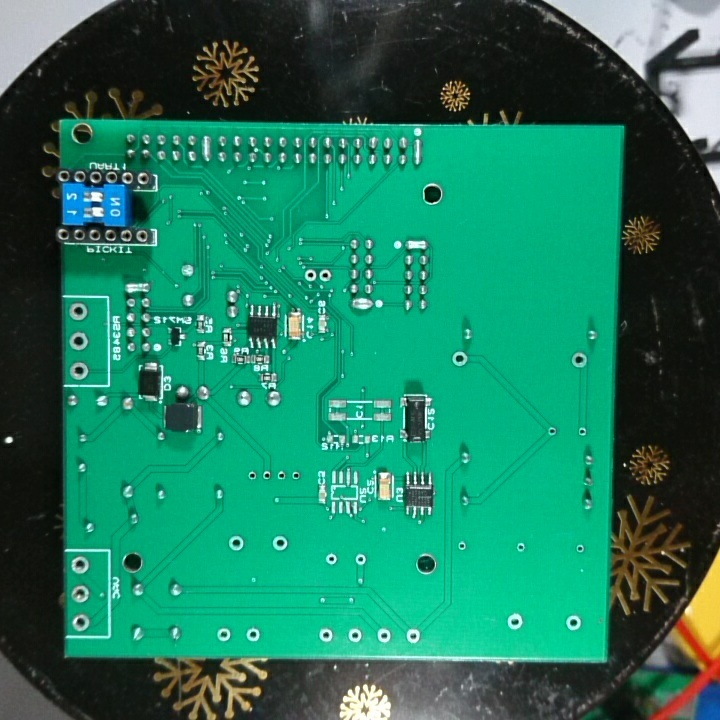F: (67, 329, 93, 355), (67, 554, 94, 578), (67, 357, 93, 381), (503, 609, 526, 635), (269, 532, 293, 555), (67, 300, 90, 324), (569, 347, 590, 373), (69, 612, 94, 633), (561, 612, 584, 634), (69, 583, 92, 605), (450, 346, 470, 371), (243, 623, 264, 646), (227, 532, 247, 555), (215, 623, 234, 646), (404, 624, 422, 647), (345, 626, 367, 644), (375, 626, 394, 646), (316, 265, 333, 287), (178, 261, 195, 283), (317, 624, 336, 643), (353, 550, 370, 571), (301, 266, 317, 286), (323, 552, 340, 569), (259, 467, 274, 486), (543, 423, 559, 440), (573, 540, 587, 558), (575, 423, 590, 439), (456, 538, 470, 554), (290, 469, 304, 485), (274, 468, 287, 485), (245, 469, 259, 484), (514, 539, 527, 555)
P: (349, 295, 375, 315), (122, 280, 154, 296), (198, 132, 213, 164), (411, 137, 425, 168), (404, 235, 428, 253)
